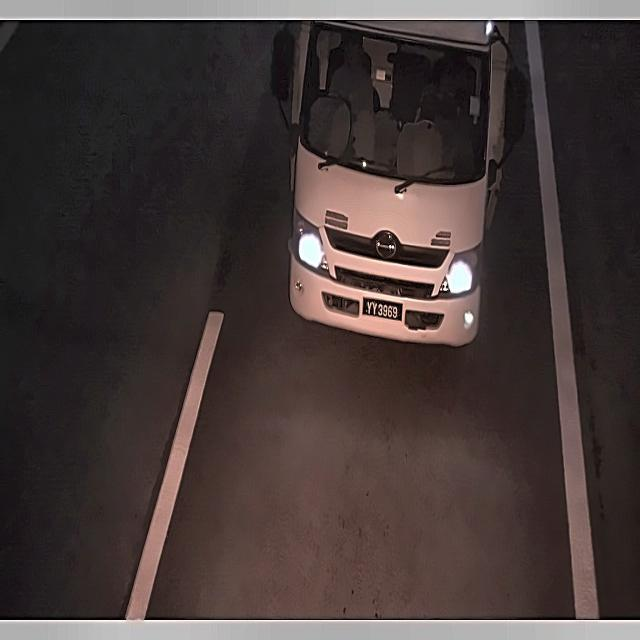car: (357, 290, 406, 329)
